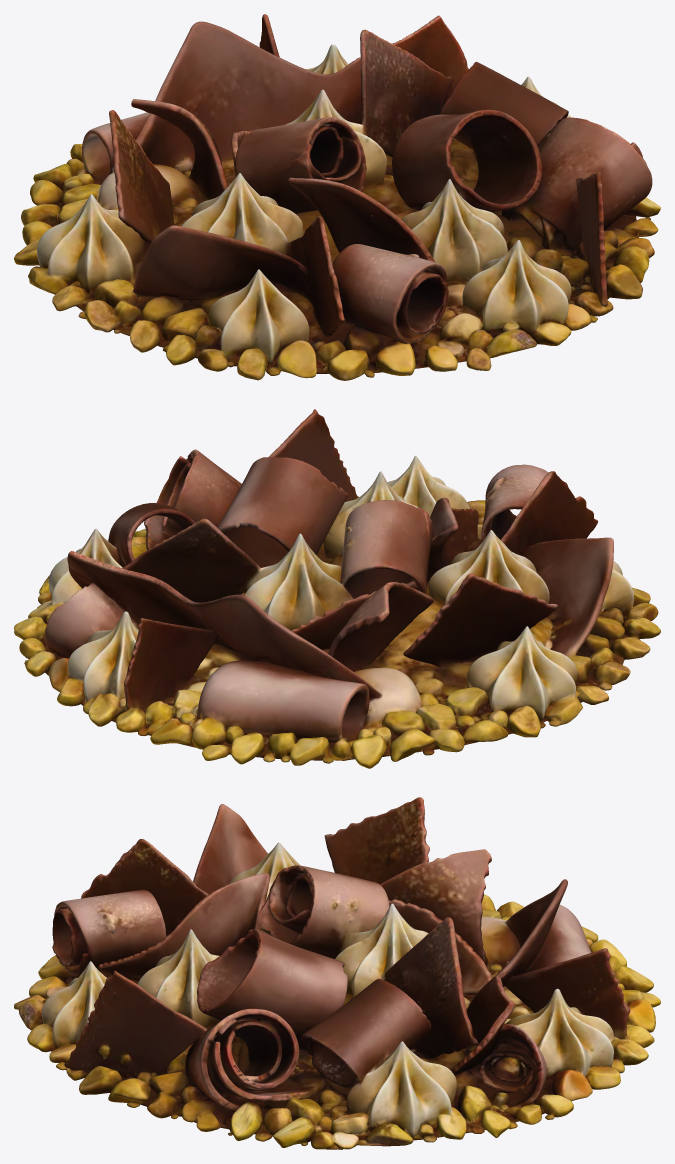
The model's file is topping.glb.
3 views of the same model, one above another, from view 1: azimuth 30°, elevation 25°; view 2: azimuth 150°, elevation 25°; view 3: azimuth 270°, elevation 25° (orthographic). The views are drawn at different scales.
Parts seen in each view (by area): view 1: tripo_node_35363782-1968-4db7-9975-4461a9869cf8; view 2: tripo_node_35363782-1968-4db7-9975-4461a9869cf8; view 3: tripo_node_35363782-1968-4db7-9975-4461a9869cf8.
Boxes of the visible parts, x1,y1,x2,y2 form: tripo_node_35363782-1968-4db7-9975-4461a9869cf8: [14, 14, 660, 380]; tripo_node_35363782-1968-4db7-9975-4461a9869cf8: [14, 409, 660, 768]; tripo_node_35363782-1968-4db7-9975-4461a9869cf8: [14, 797, 660, 1149].
Bounding box in the file's own units: 0.9456 × 0.2354 × 0.9792.
Materials: 1 (1 with a texture image).
